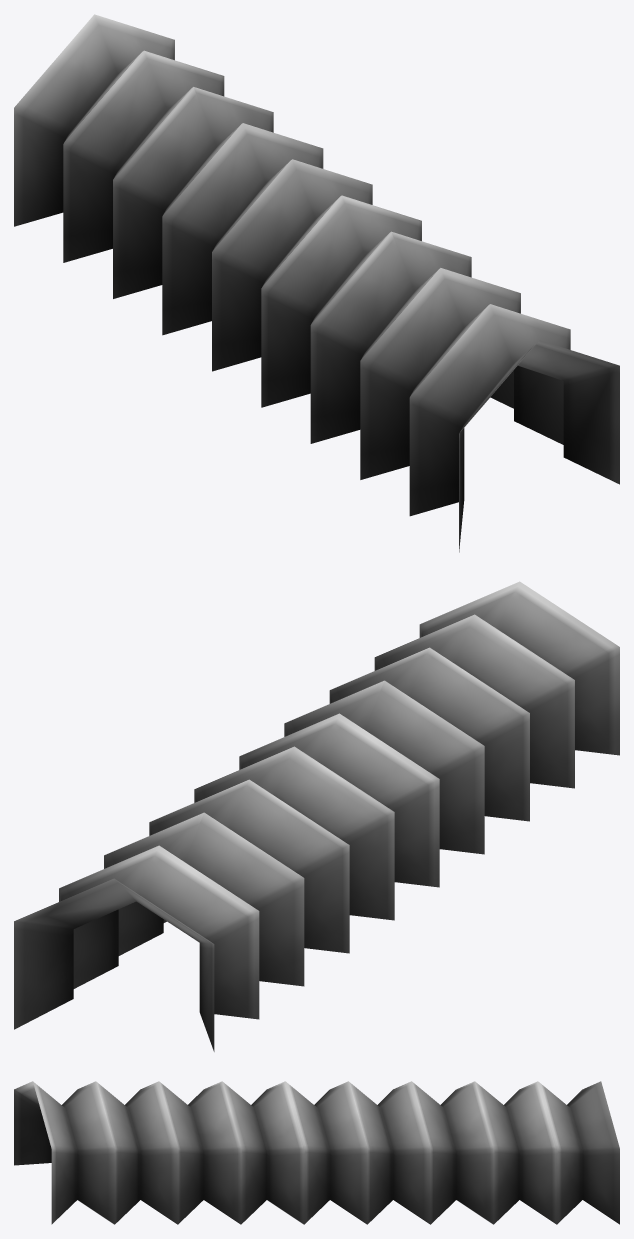
The model's file is Spring.fbx.
3 renders of one model, top to bottom at view 1: azimuth 30°, elevation 25°; view 2: azimuth 150°, elevation 25°; view 3: azimuth 270°, elevation 25°, orthographic. The views are drawn at different scales.
Visible parts, largest first — view 1: Spring; view 2: Spring; view 3: Spring.
Part boxes in pixels (x1,y1,x2,y2): Spring: (14,14,619,552); Spring: (14,581,619,1051); Spring: (14,1081,619,1224).
Size of the model in its own units: 15.28 by 13.7 by 66.03.
